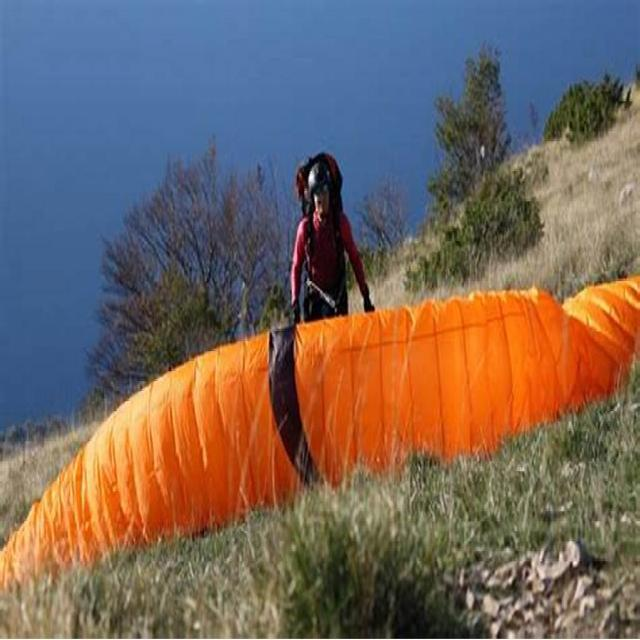paraglider: (1, 271, 638, 596)
